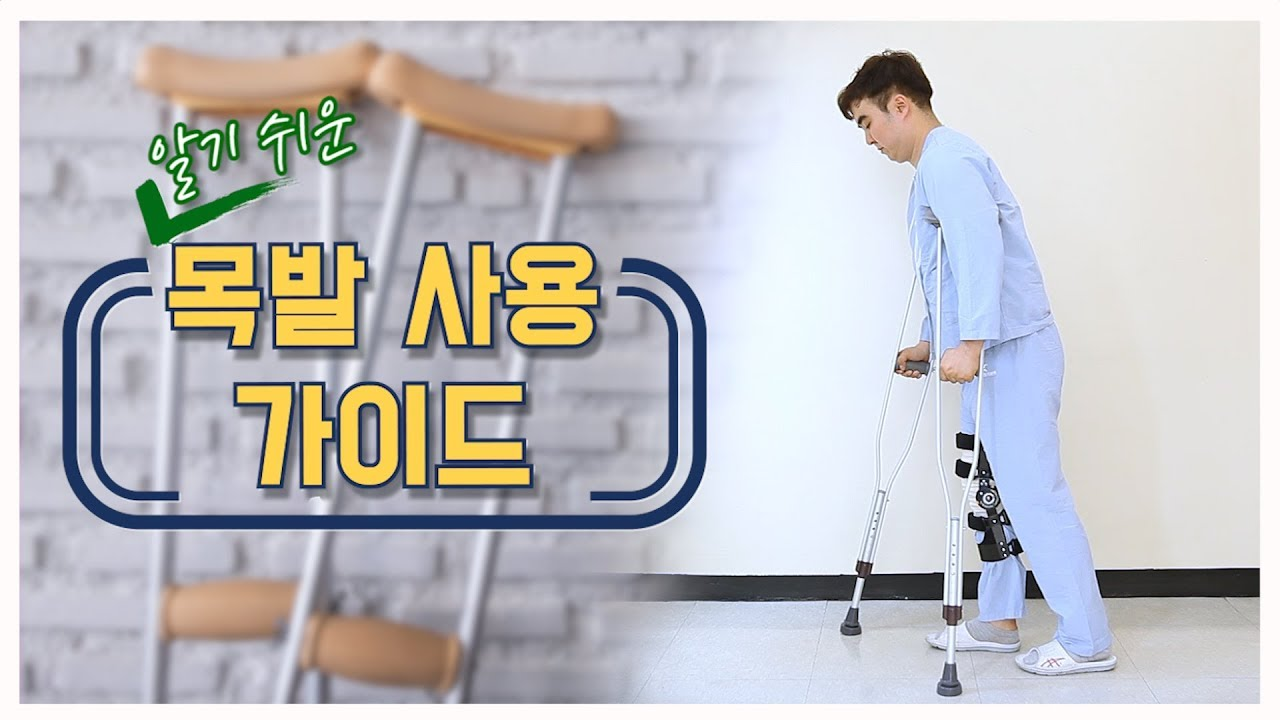crutches: (831, 49, 1118, 694)
